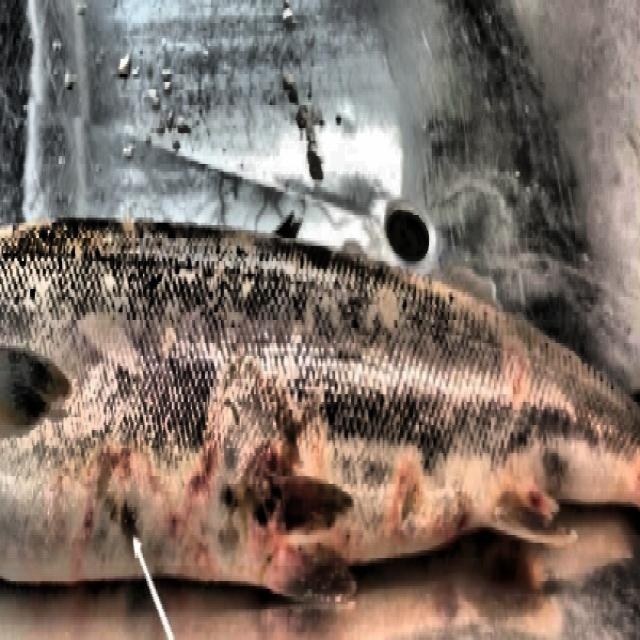mild_red: (0, 218, 639, 602)
